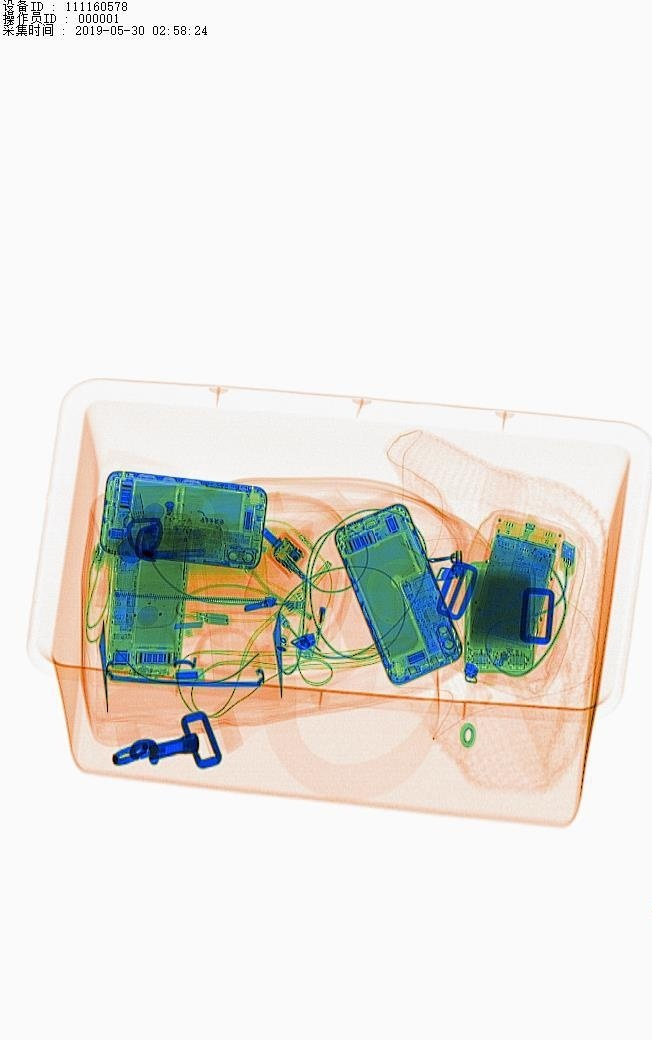NonmetallicFire: (288, 554, 352, 681)
